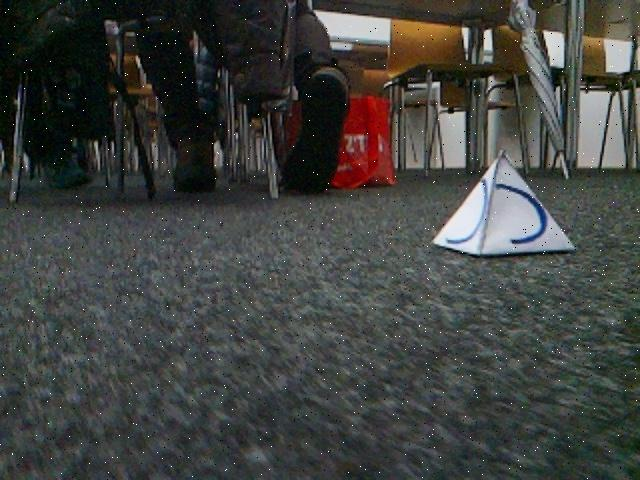C: (431, 152, 573, 256)
